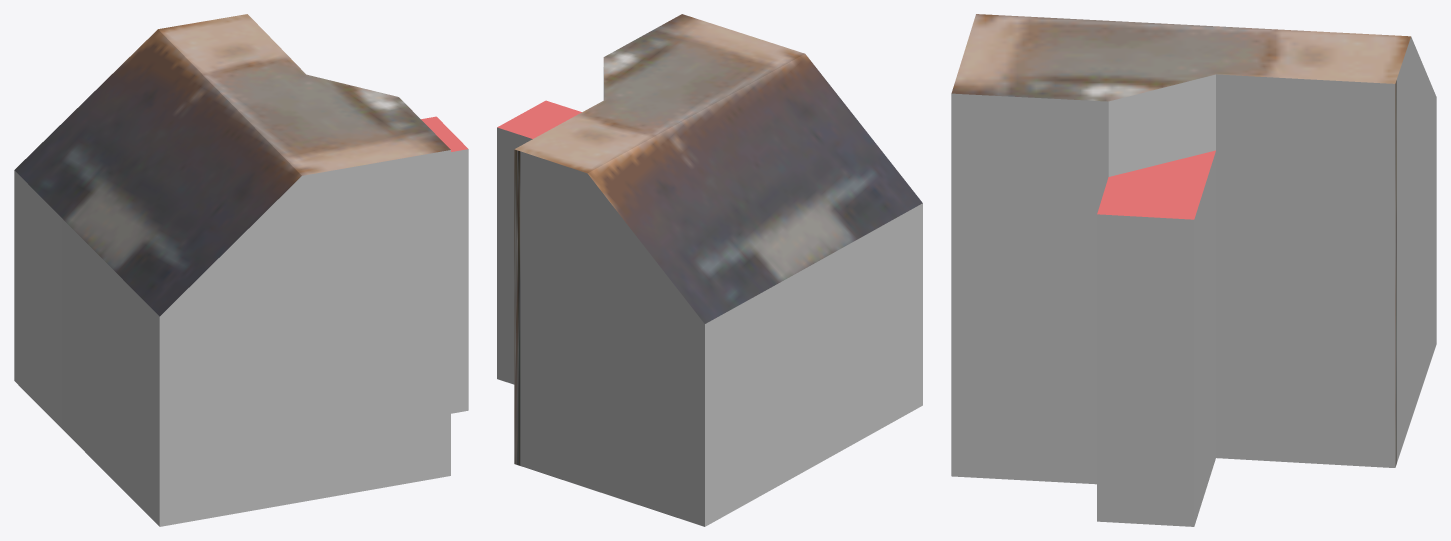
The model's file is DEBW_0010007Tx54.gltf.
The picture shows the model from 3 angles, left to right: view 1: azimuth 30°, elevation 25°; view 2: azimuth 150°, elevation 25°; view 3: azimuth 270°, elevation 25°; orthographic projection. The views are drawn at different scales.
Visible parts, largest first — view 1: Z_UP; view 2: Z_UP; view 3: Z_UP.
Part boxes in pixels (x1=…): Z_UP: x1=14, y1=14, x2=468, y2=526; Z_UP: x1=497, y1=14, x2=922, y2=526; Z_UP: x1=951, y1=14, x2=1436, y2=526.
Bounding box in the file's own units: 15.41 × 13.39 × 15.32.
3 materials, 1 textured.
